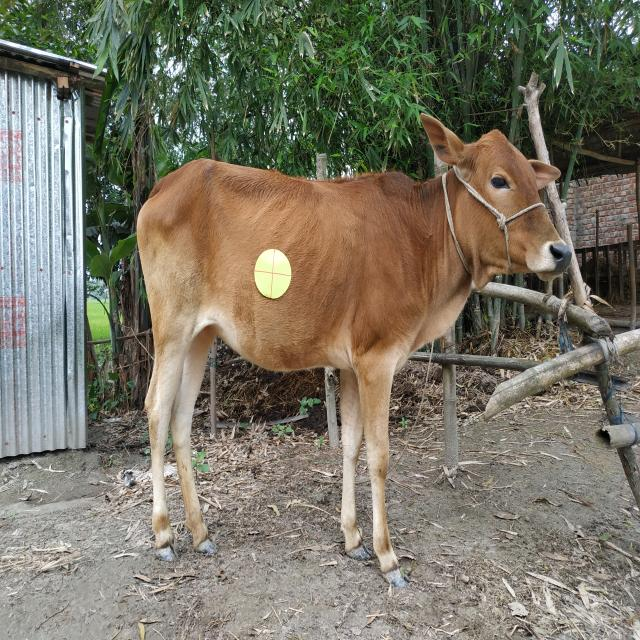badan_sapi: (139, 168, 410, 373)
sapi: (123, 114, 577, 580)
